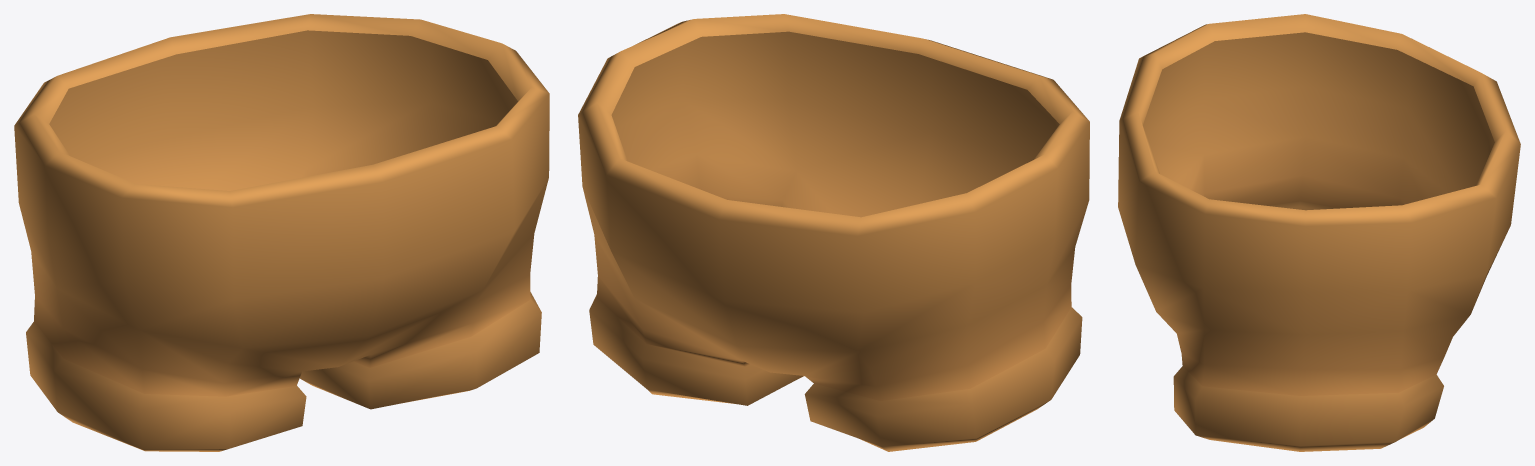
File: Bottom_31.fbx
3 renders of one model, left to right at view 1: azimuth 30°, elevation 25°; view 2: azimuth 150°, elevation 25°; view 3: azimuth 270°, elevation 25°, orthographic. The views are drawn at different scales.
Parts seen in each view (by area): view 1: Bottom_31; view 2: Bottom_31; view 3: Bottom_31.
Boxes of the visible parts, bbox=[...] form: Bottom_31: bbox=[14, 14, 549, 451]; Bottom_31: bbox=[578, 14, 1089, 451]; Bottom_31: bbox=[1118, 14, 1520, 451].
Bounding box in the file's own units: 38.42 × 22.89 × 31.34.
